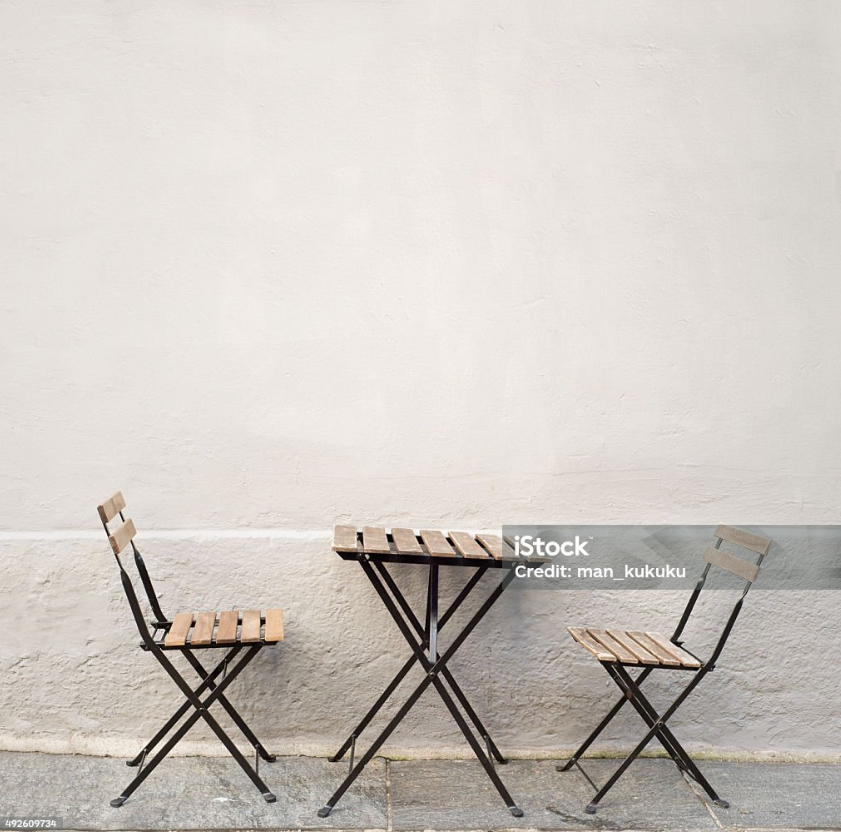obstacle: (327, 514, 546, 820), (90, 495, 287, 809), (573, 528, 772, 807)
